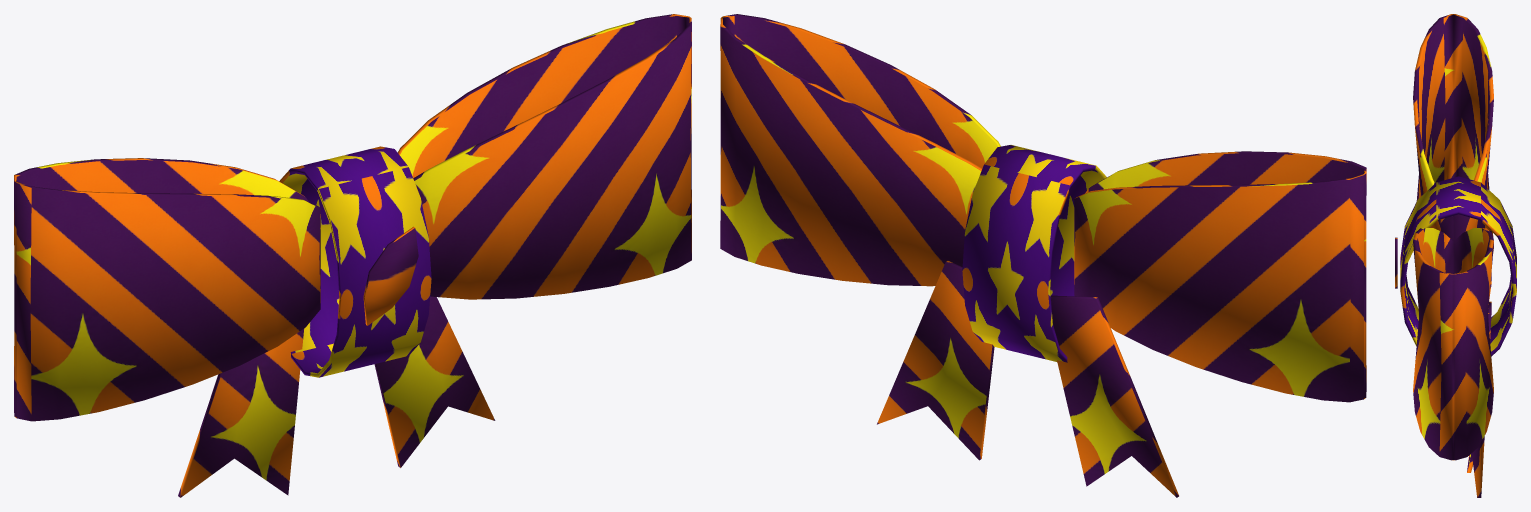
File: KH_HalloweenRibbon.fbx
The picture shows the model from 3 angles, left to right: view 1: azimuth 30°, elevation 25°; view 2: azimuth 150°, elevation 25°; view 3: azimuth 270°, elevation 25°; orthographic projection. The views are drawn at different scales.
Visible parts, largest first — view 1: KH_HalloweenRibbon; view 2: KH_HalloweenRibbon; view 3: KH_HalloweenRibbon.
Part boxes in pixels (x1,y1,x2,y2): KH_HalloweenRibbon: (14, 14, 691, 497); KH_HalloweenRibbon: (720, 14, 1366, 497); KH_HalloweenRibbon: (1395, 14, 1516, 497).
Size of the model in its own units: 12 by 6.6 by 2.38.
Materials: 1 (1 with a texture image).
